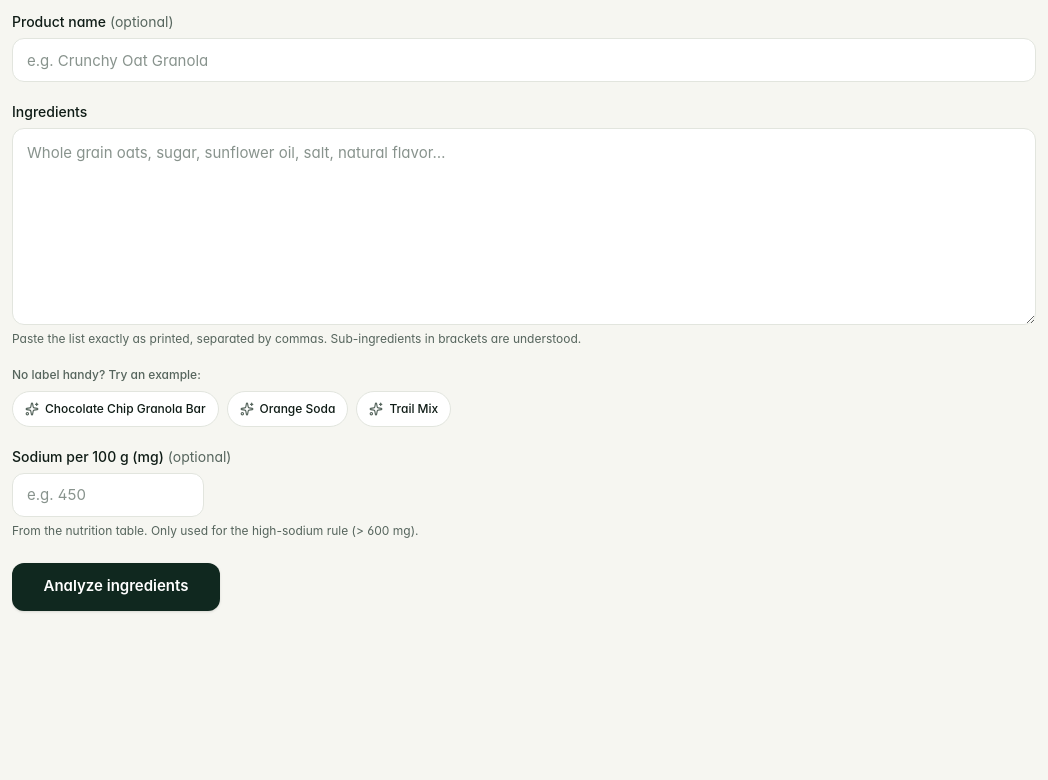
it: AnalyzeForm › shows server-side ingredient errors next to the field
The width and height of the screenshot is (1048, 780).
Type "zz qq" into the text box labelled "Ingredients" at (524, 226), box x1=12 y1=128 x2=1036 y2=325
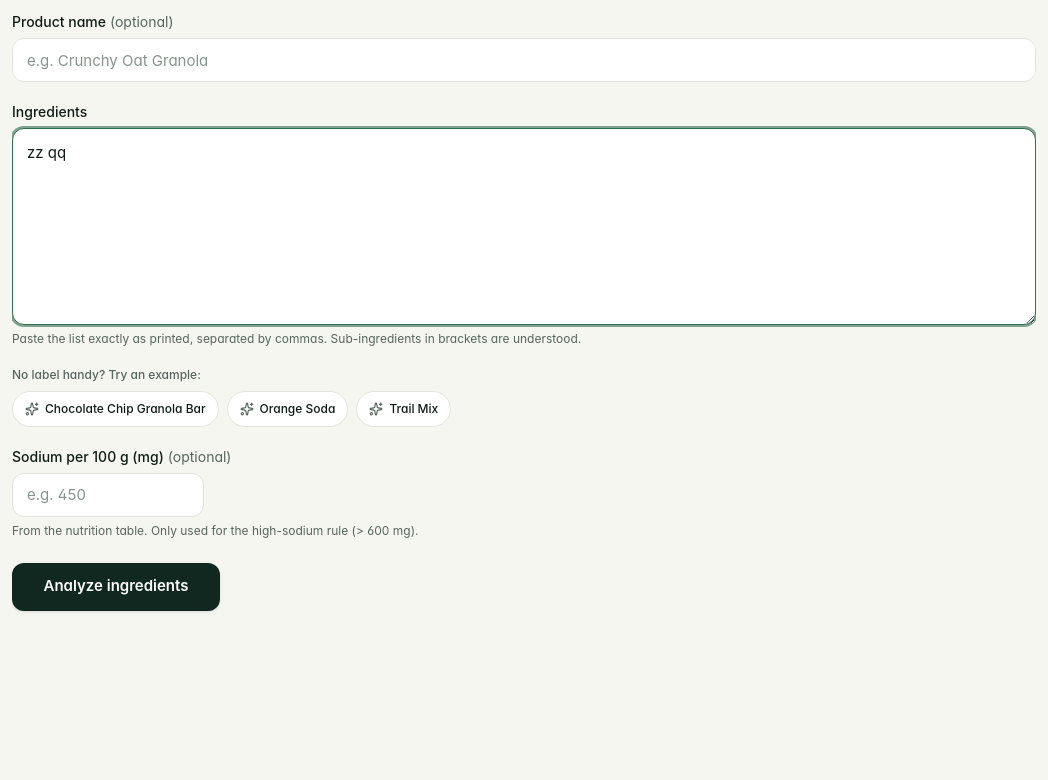
Click the button "Analyze ingredients" at (116, 587), box x1=12 y1=563 x2=220 y2=611
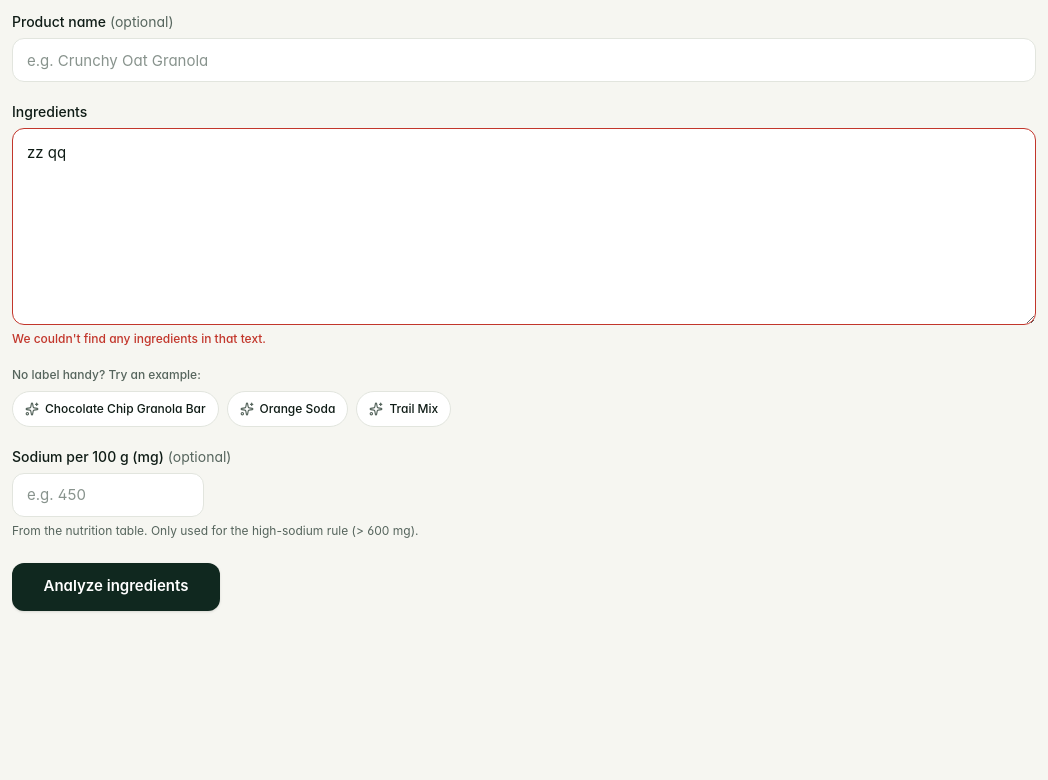
Expected: the text "We couldn't find any ingredients in that text." is shown, x1=12 y1=331 x2=266 y2=346
